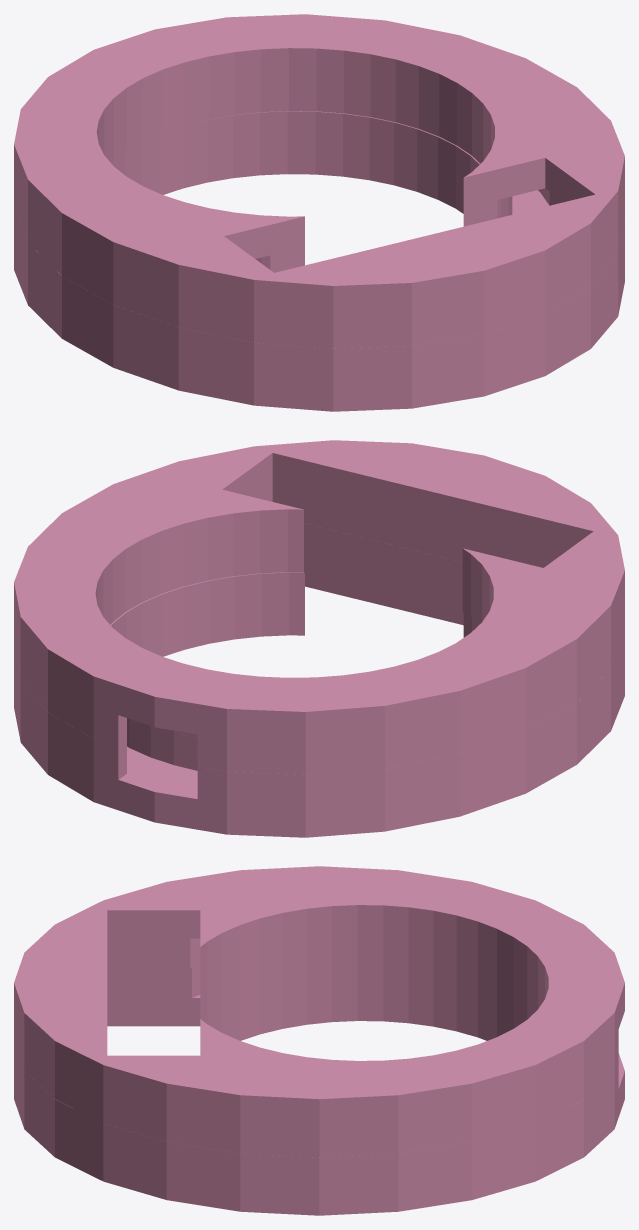
Rendered from Ring.glb.
3 renders of one model, top to bottom at view 1: azimuth 30°, elevation 25°; view 2: azimuth 150°, elevation 25°; view 3: azimuth 270°, elevation 25°, orthographic. The views are drawn at different scales.
Parts seen in each view (by area): view 1: Mesh_Mesh_head_geo.001_lambert2SG.001; view 2: Mesh_Mesh_head_geo.001_lambert2SG.001; view 3: Mesh_Mesh_head_geo.001_lambert2SG.001.
Part boxes in pixels (<box>): Mesh_Mesh_head_geo.001_lambert2SG.001: <box>14,14,624,411</box>; Mesh_Mesh_head_geo.001_lambert2SG.001: <box>14,440,624,837</box>; Mesh_Mesh_head_geo.001_lambert2SG.001: <box>14,866,624,1215</box>.
Size of the model in its own units: 30 by 7 by 33.25.
